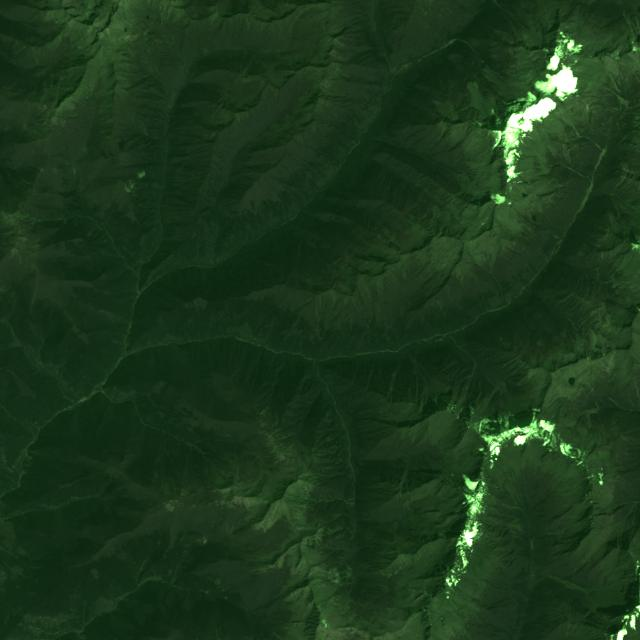landslides: (534, 571, 632, 611), (491, 0, 543, 49), (481, 66, 536, 99), (466, 80, 499, 127), (532, 517, 590, 539), (449, 335, 476, 380), (473, 512, 522, 531), (549, 162, 592, 182), (434, 100, 461, 122), (502, 503, 530, 523), (478, 505, 517, 519), (602, 84, 627, 105), (623, 11, 638, 45), (489, 258, 502, 297), (567, 137, 603, 151), (491, 26, 514, 45), (506, 483, 522, 506), (628, 16, 640, 42), (559, 0, 575, 18), (609, 70, 620, 92), (522, 473, 530, 501), (507, 246, 526, 257), (506, 486, 517, 505), (437, 300, 445, 317), (540, 247, 548, 264), (634, 379, 640, 400), (634, 15, 640, 36), (609, 397, 620, 408), (586, 409, 592, 429), (572, 124, 580, 138), (444, 289, 452, 303), (628, 392, 634, 410), (315, 296, 319, 322), (513, 535, 526, 543)
